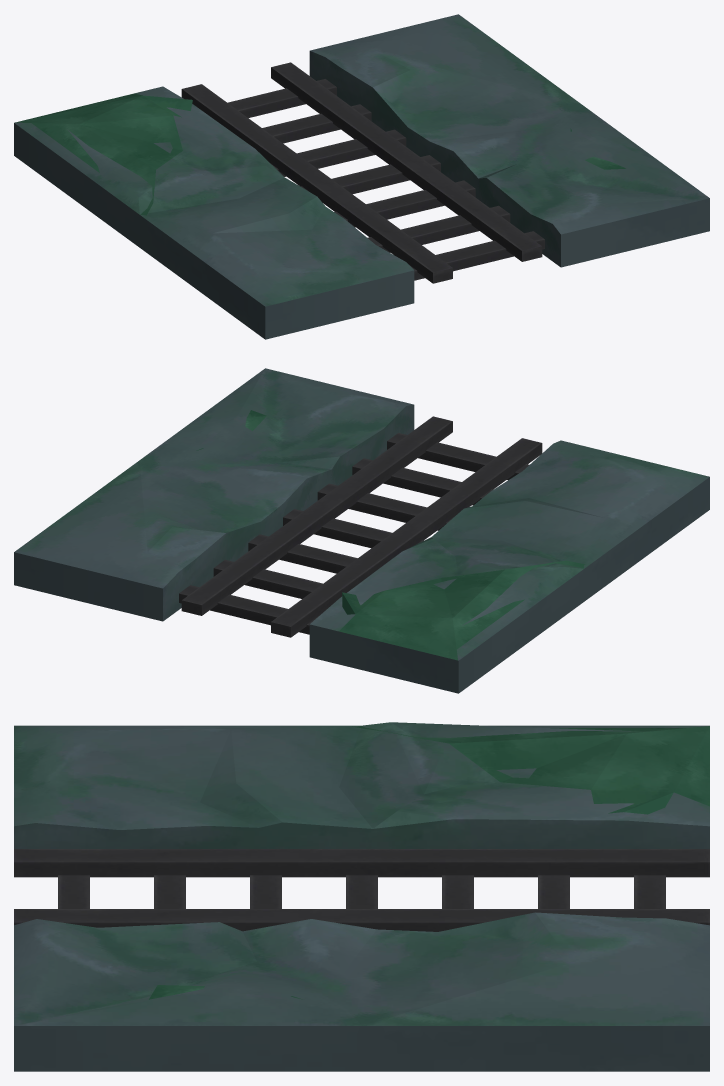
The model's file is piso3.obj.
3 views of the same model, one above another, from view 1: azimuth 30°, elevation 25°; view 2: azimuth 150°, elevation 25°; view 3: azimuth 270°, elevation 25° (orthographic). The views are drawn at different scales.
Visible parts, largest first — view 1: piso_4:piso_3musgo_5; view 2: piso_4:piso_3musgo_5; view 3: piso_4:piso_3musgo_5.
Part boxes in pixels (x1,y1,x2,y2): piso_4:piso_3musgo_5: (14, 14, 709, 339); piso_4:piso_3musgo_5: (14, 368, 709, 693); piso_4:piso_3musgo_5: (14, 722, 709, 1071).
Size of the model in its own units: 4.08 by 0.3921 by 3.99.
Materials: 1 (1 with a texture image).
